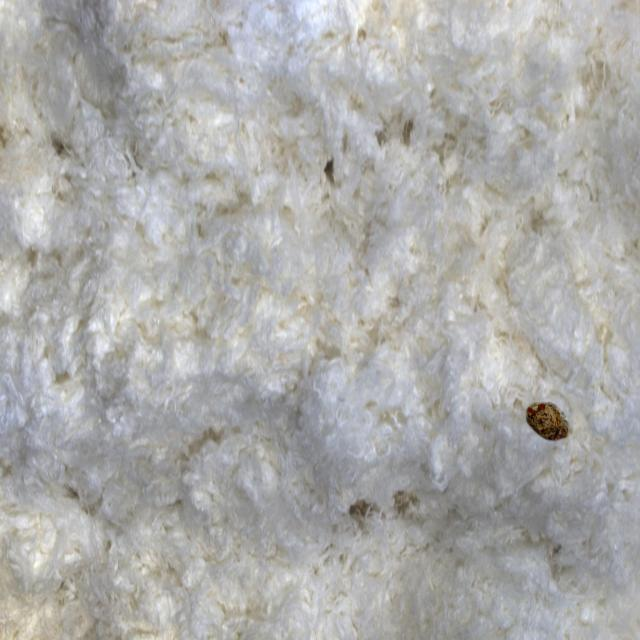dust: (512, 363, 596, 491)
